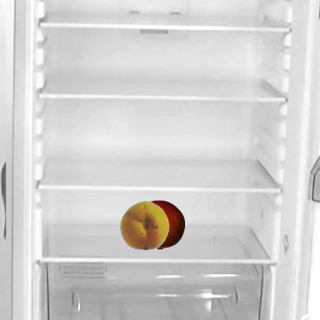Apple Braeburn: (134, 199, 184, 249)
Peach 2: (119, 199, 169, 249)
